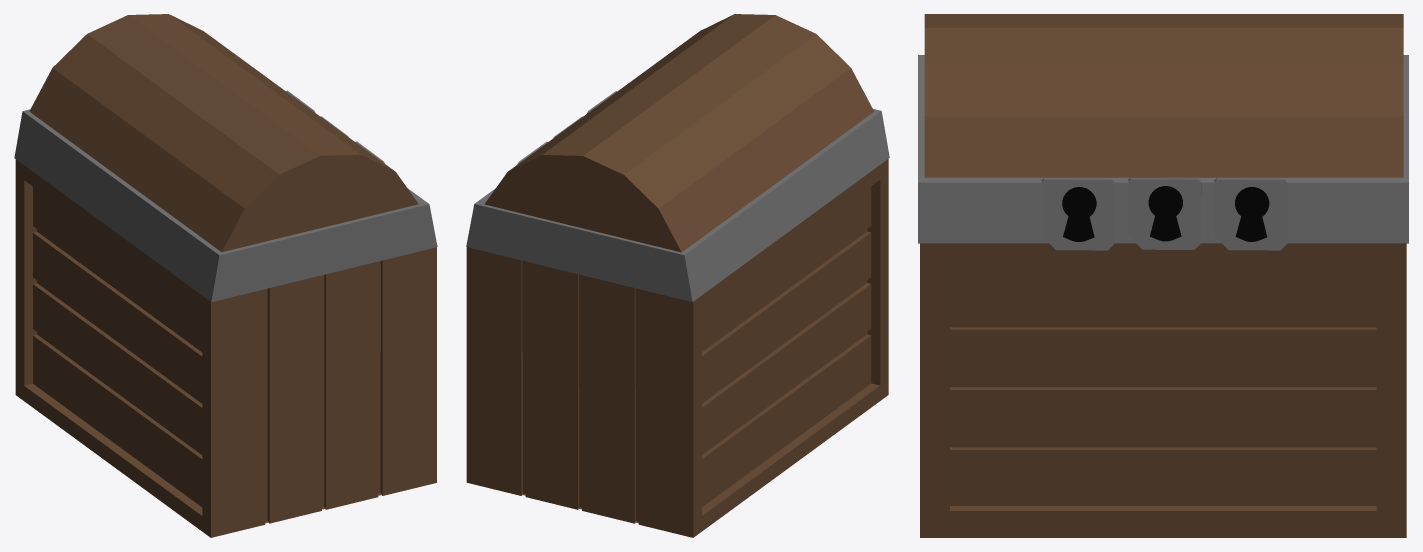
Rendered from Chest.fbx.
3 views of the same model, side by side, from view 1: azimuth 30°, elevation 25°; view 2: azimuth 150°, elevation 25°; view 3: azimuth 270°, elevation 25° (orthographic). The views are drawn at different scales.
Parts seen in each view (by area): view 1: Cube.001; view 2: Cube.001; view 3: Cube.001.
Boxes of the visible parts, x1,y1,x2,y2 form: Cube.001: [14, 14, 437, 537]; Cube.001: [466, 14, 889, 537]; Cube.001: [918, 14, 1408, 537].
Bounding box in the file's own units: 94.83 × 138 × 140.
